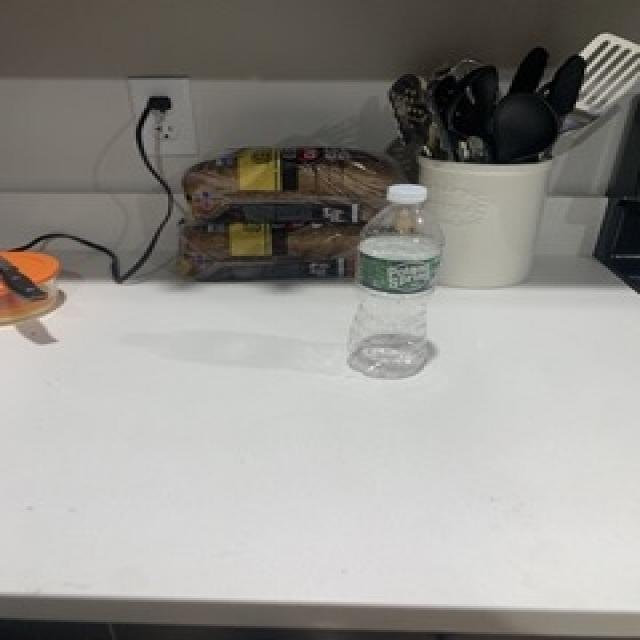water_bottle: (345, 182, 449, 381)
